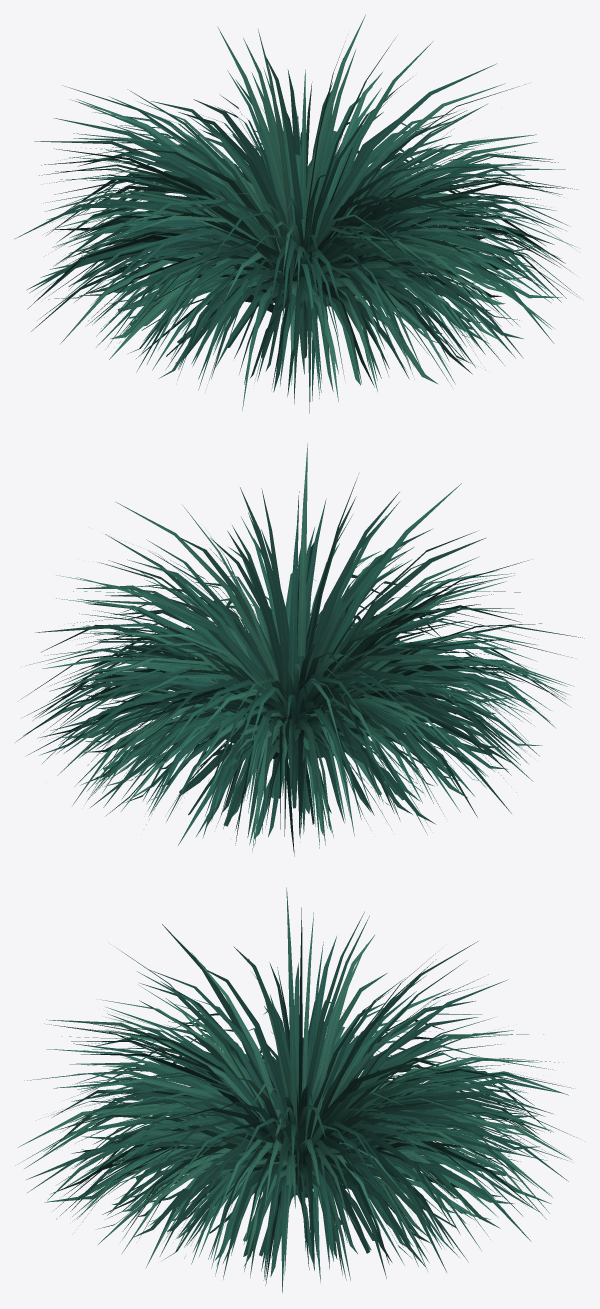
The model's file is shade_grass_v02.fbx.
The picture shows the model from 3 angles, top to bottom: view 1: azimuth 30°, elevation 25°; view 2: azimuth 150°, elevation 25°; view 3: azimuth 270°, elevation 25°; orthographic projection. The views are drawn at different scales.
Visible parts, largest first — view 1: shade_grass_v02; view 2: shade_grass_v02; view 3: shade_grass_v02.
Part boxes in pixels (x1=…): shade_grass_v02: x1=14, y1=14, x2=581, y2=413; shade_grass_v02: x1=15, y1=444, x2=584, y2=856; shade_grass_v02: x1=15, y1=887, x2=576, y2=1292.
Size of the model in its own units: 77.37 by 77.97 by 30.8.
Materials: 1 (1 with a texture image).
